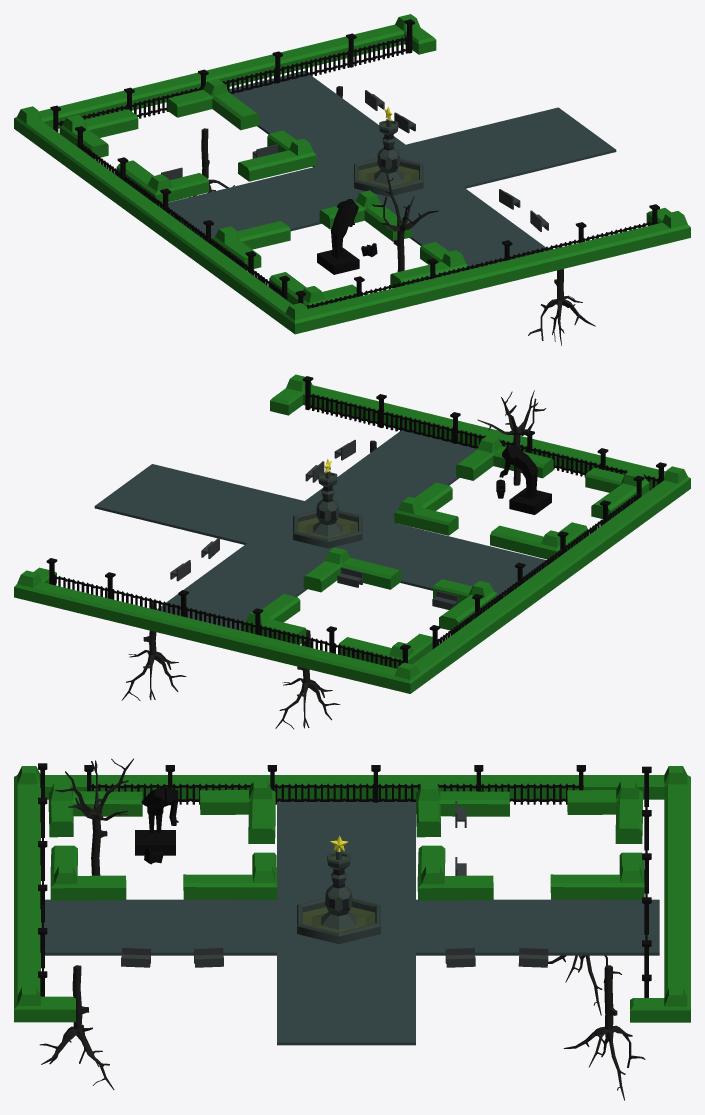
File: Park.FBX
The picture shows the model from 3 angles, top to bottom: view 1: azimuth 30°, elevation 25°; view 2: azimuth 150°, elevation 25°; view 3: azimuth 270°, elevation 25°; orthographic projection. The views are drawn at different scales.
Visible parts, largest first — view 1: Box021, Box055, Star002, Object011, Cylinder005, Cylinder012, Object024, Object025, Object023, Object021; view 2: Box021, Box055, Star002, Object011, Object010, Cylinder010, Cylinder005, Cylinder009, Object012, Object014, Object022, Object023 (+2 smaller); view 3: Box055, Box021, Star002, Object011, Cylinder010, Cylinder005, Cylinder012, Object018, Object017, Object016, Box079, Box078 (+4 smaller).
Part boxes in pixels (x1,y1,x2,y2): Box021: (14,14,690,334); Box055: (159,70,616,269); Star002: (354,106,423,196); Object011: (317,199,359,274); Cylinder005: (372,169,438,271); Cylinder012: (528,247,595,345); Object024: (280,50,350,81); Object025: (353,36,408,66); Object023: (222,68,276,93); Object021: (132,86,202,118); Box021: (14,374,690,693); Box055: (94,430,546,630); Star002: (293,459,362,548); Object011: (499,444,551,514); Object010: (309,393,378,426); Cylinder010: (121,602,186,700); Cylinder005: (477,390,546,485); Cylinder009: (275,629,340,729); Object012: (382,411,452,442); Object014: (530,448,600,476); Object022: (333,643,407,668); Object023: (185,607,255,633); Box055: (41,801,659,1045); Box021: (14,766,690,1022); Star002: (297,835,380,944); Object011: (135,787,178,855); Cylinder010: (563,965,645,1100); Cylinder005: (55,758,133,875); Cylinder012: (39,965,114,1089); Object018: (274,783,373,804); Object017: (481,783,583,804); Object016: (378,783,476,801); Box079: (445,947,475,967); Box078: (518,947,548,967).
Size of the model in its own units: 24.02 by 10.57 by 27.16.
